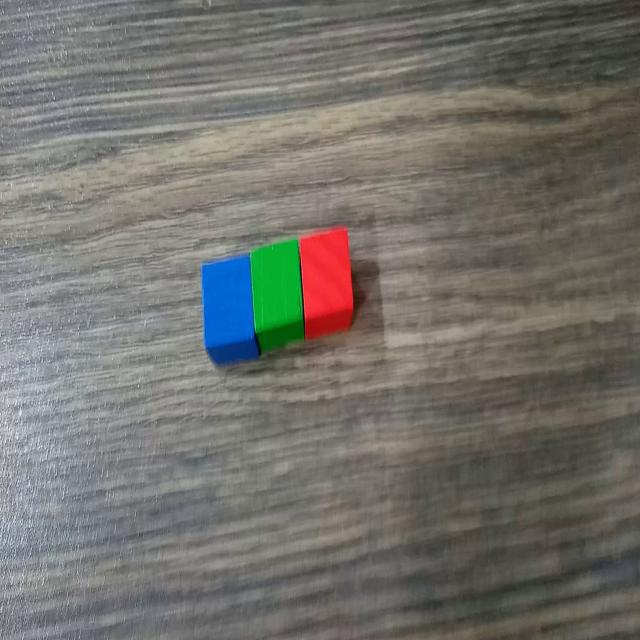cube: (200, 244, 256, 370), (249, 235, 305, 354), (300, 222, 354, 343)
